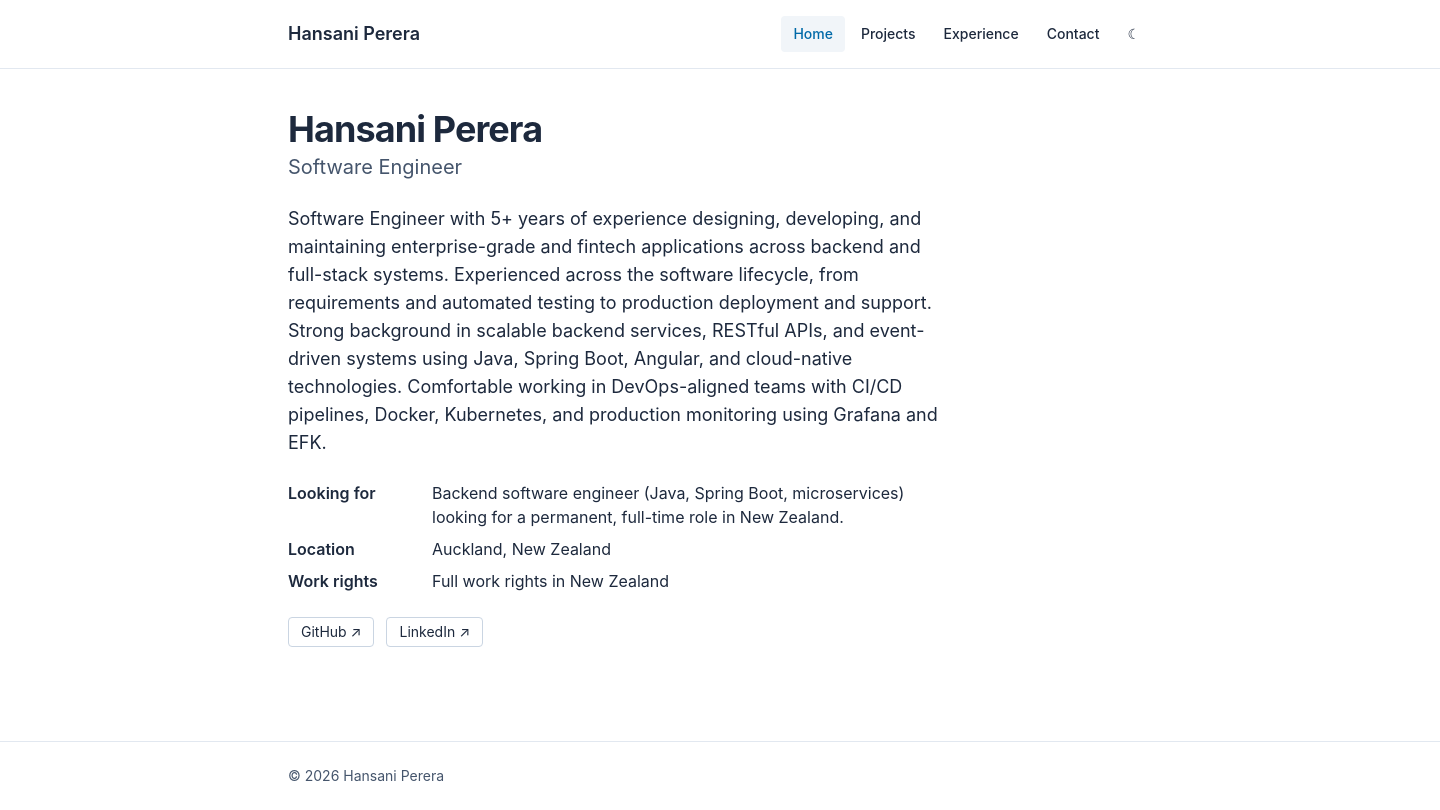
Test: Layout and navigation › renders the main nav links and navigates between pages
Click the link "Projects": [888, 34] box [861,25,916,42]
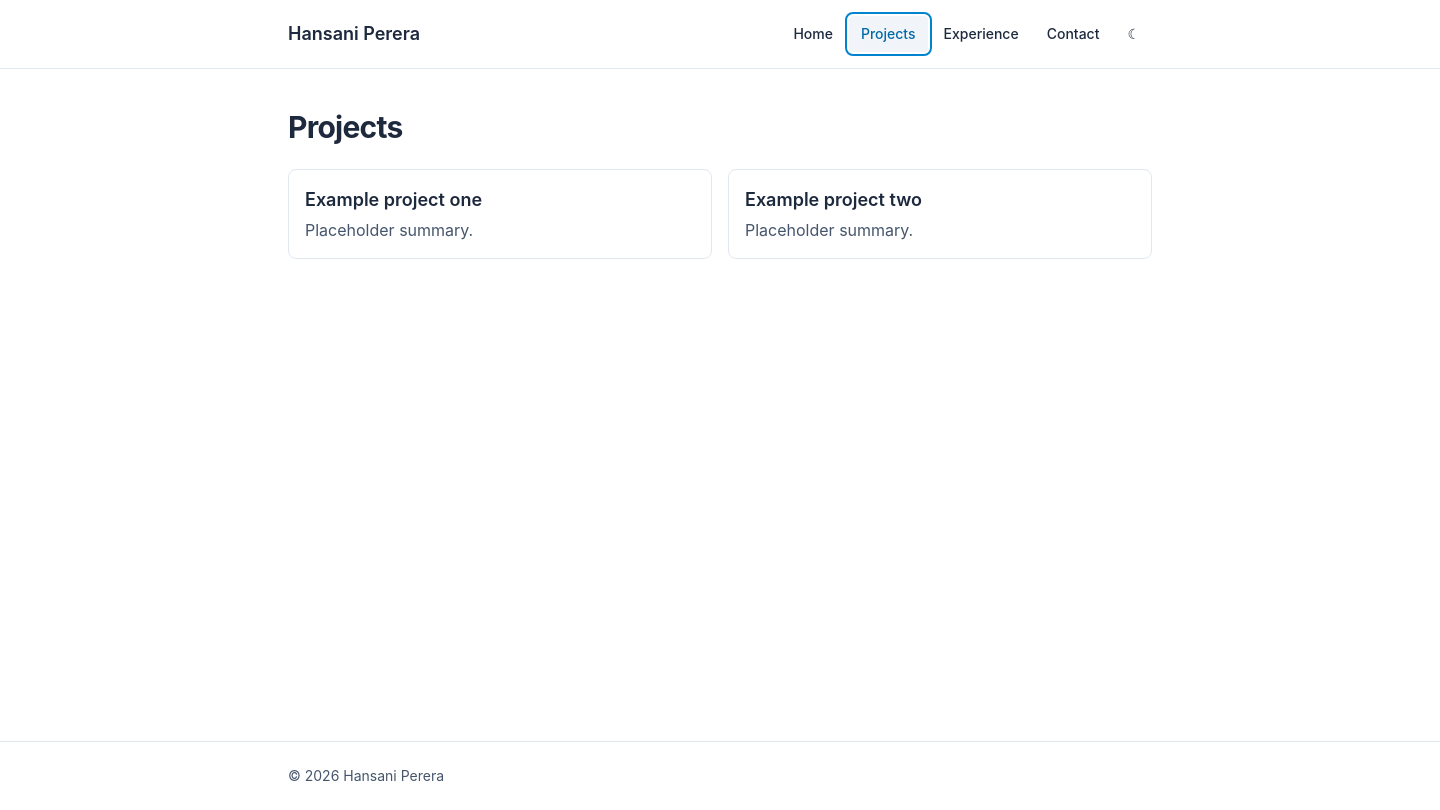
Expected: the heading "Projects" is shown, [288,109,402,145]
